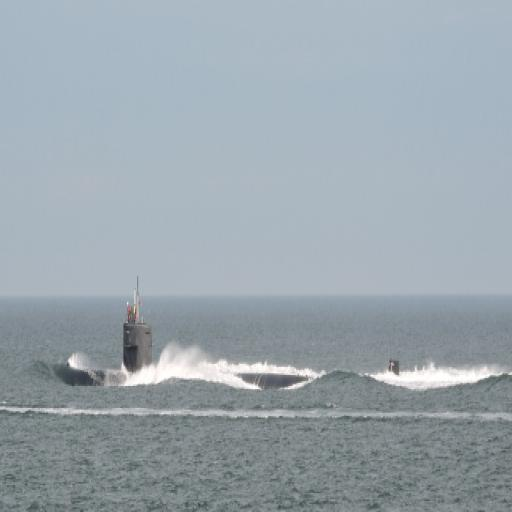submarine: (90, 245, 192, 406)
